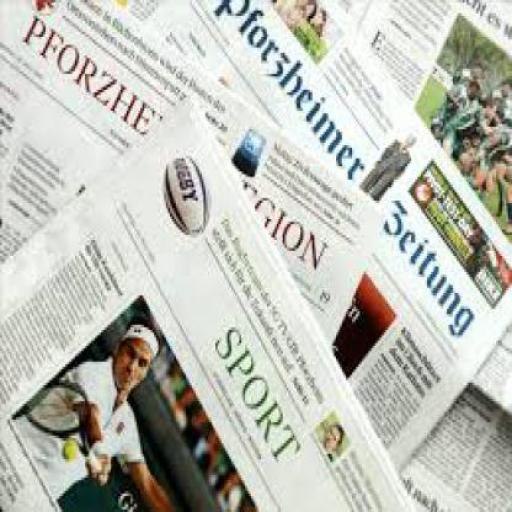paper: (103, 0, 510, 510), (1, 92, 419, 510), (0, 0, 388, 383), (327, 0, 511, 410), (396, 380, 510, 510)
